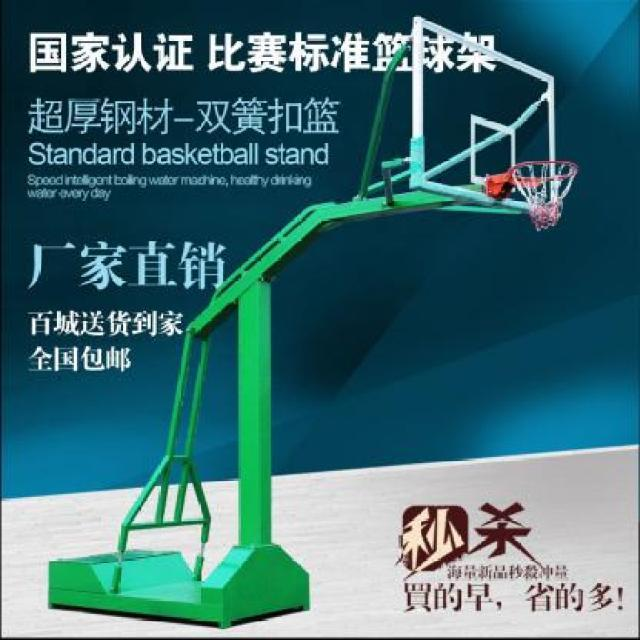rim: (508, 160, 580, 232)
